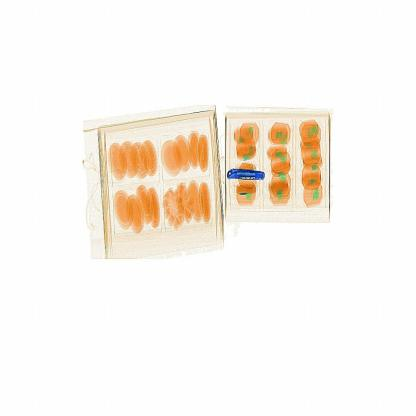knife: (222, 157, 279, 197)
